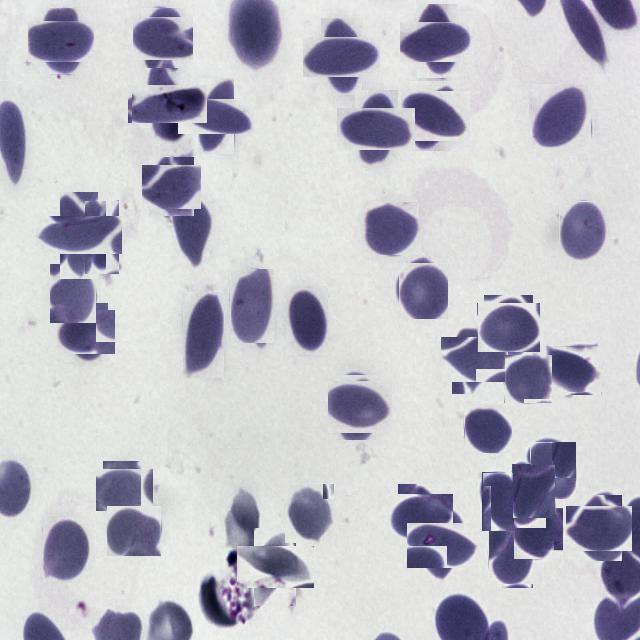red blood cell: (530, 85, 592, 148), (48, 204, 110, 267), (405, 86, 465, 146), (346, 99, 406, 159), (245, 538, 305, 598), (183, 292, 224, 378), (312, 27, 371, 86), (138, 74, 197, 133), (331, 378, 389, 436), (414, 516, 472, 574), (408, 13, 466, 70), (230, 268, 274, 343), (43, 516, 92, 582), (480, 300, 537, 356), (571, 500, 627, 556), (188, 88, 244, 144), (171, 194, 214, 266), (447, 332, 502, 388), (363, 201, 419, 256), (392, 490, 448, 544), (285, 285, 328, 355), (284, 483, 334, 543), (546, 343, 600, 398), (221, 489, 261, 563), (559, 201, 607, 261), (34, 15, 88, 68), (398, 262, 448, 319), (488, 526, 533, 588), (50, 264, 96, 323), (60, 306, 112, 358), (146, 160, 198, 212), (137, 12, 189, 64), (107, 506, 161, 556), (530, 442, 576, 499), (84, 200, 119, 274), (514, 508, 564, 558), (100, 464, 150, 514), (464, 404, 514, 452), (504, 354, 552, 403), (512, 464, 555, 518), (482, 472, 520, 531)
